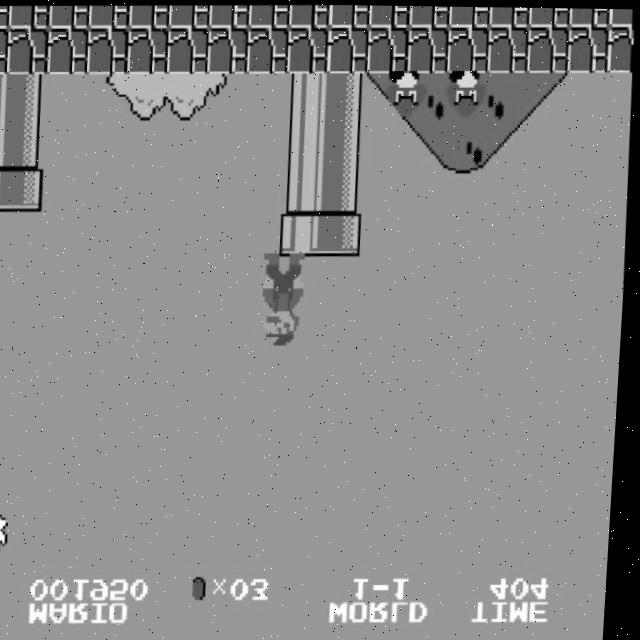0- big_mario: (260, 252, 309, 347)
14- pipe: (4, 73, 49, 121), (285, 71, 329, 119), (325, 71, 369, 119), (3, 119, 47, 166), (282, 163, 326, 210), (284, 117, 328, 164), (322, 163, 366, 210), (324, 117, 368, 164), (0, 74, 8, 120), (0, 119, 6, 165)
15- pipe_head: (281, 208, 325, 256), (321, 208, 365, 256), (2, 165, 46, 212), (0, 166, 5, 211)
17- undestructible_block: (6, 27, 50, 75), (46, 27, 90, 75), (286, 25, 330, 73), (326, 25, 370, 73), (486, 24, 530, 72), (526, 24, 570, 72), (86, 27, 130, 74), (126, 27, 170, 74), (166, 26, 210, 73), (206, 26, 250, 73), (246, 26, 290, 73), (366, 25, 410, 72), (406, 25, 450, 72), (446, 25, 490, 72), (566, 24, 610, 71), (606, 25, 635, 71), (88, 4, 130, 29), (168, 3, 210, 28), (208, 3, 250, 28), (248, 3, 290, 28), (8, 5, 50, 29), (48, 5, 90, 29), (128, 4, 170, 28), (288, 3, 330, 27), (328, 4, 370, 27), (368, 4, 410, 27), (448, 5, 490, 27), (408, 5, 450, 26), (488, 6, 530, 26), (528, 6, 570, 26), (568, 7, 610, 25), (0, 28, 10, 74), (607, 7, 634, 24), (0, 5, 9, 28)
8- goomba: (382, 68, 429, 119), (443, 68, 489, 118)
